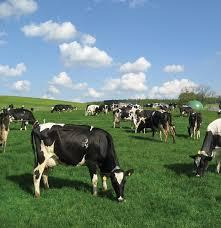cow: (30, 122, 135, 203), (188, 117, 221, 177), (136, 110, 177, 144), (4, 107, 41, 131), (111, 104, 146, 129), (0, 111, 10, 154), (188, 112, 202, 141), (84, 104, 101, 117), (50, 104, 69, 115), (179, 105, 196, 116)
